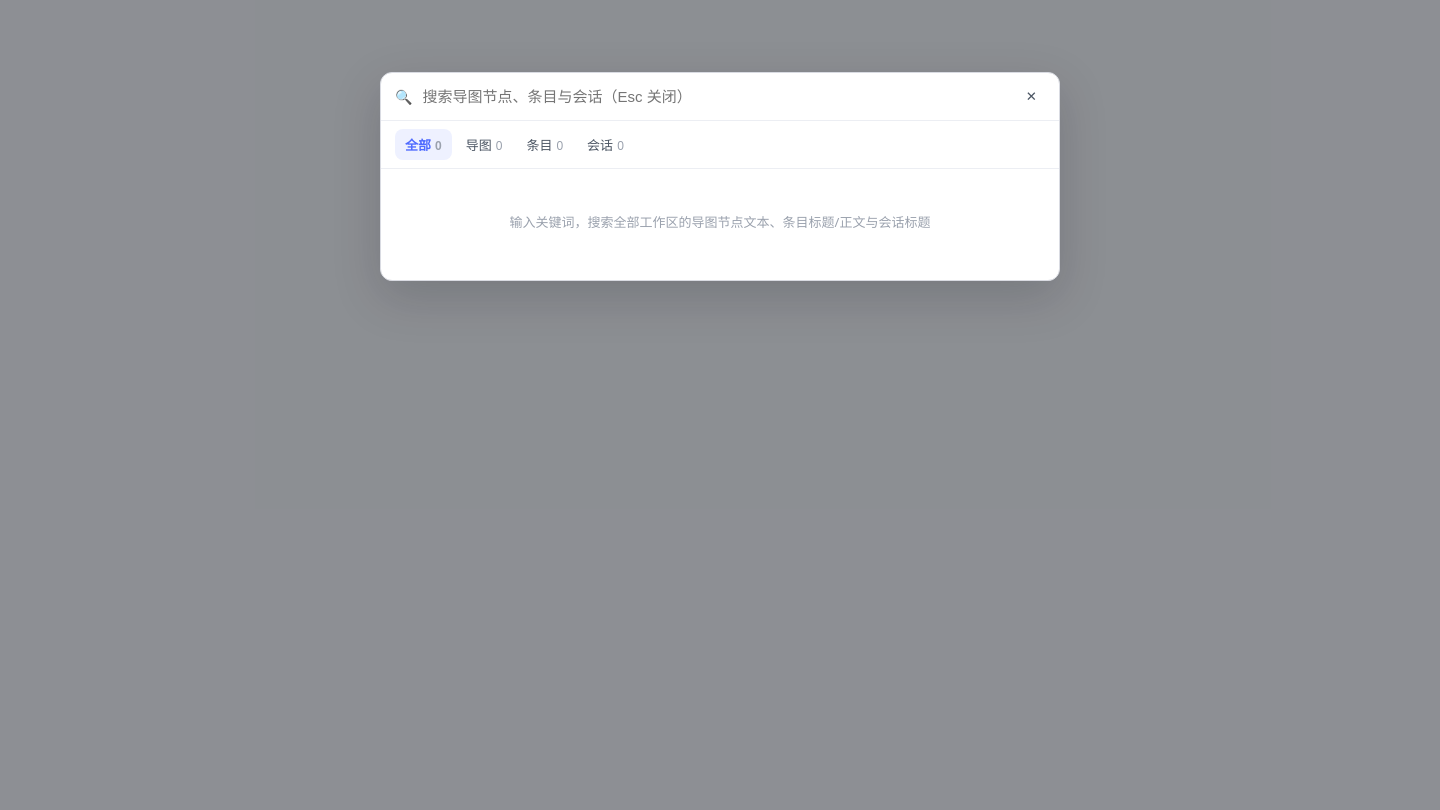
Test: SearchOverlay 全局搜索浮层 › 按类型分组展示结果并对关键词加 mark 高亮
The width and height of the screenshot is (1440, 810).
Type "布局" into the field named "搜索关键词" at [715, 96], box [420,87,1010,106]
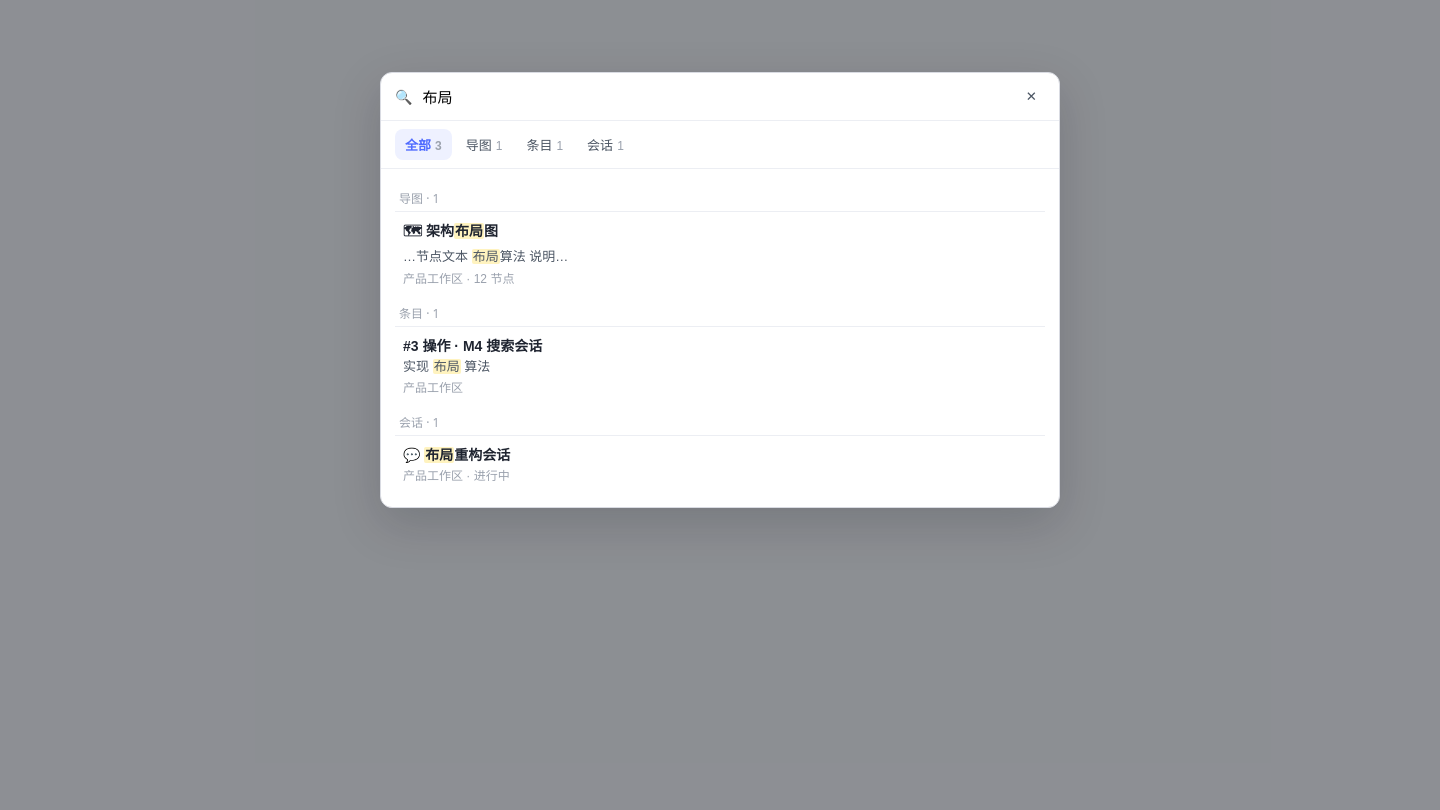
expect the button "🗺 架构布局图 …节点文本 布局算法 说明… 产品工作区 · 12 节点" is shown: met, box [395,212,1045,294]
expect the button "#3 操作 · M4 搜索会话 实现 布局 算法 产品工作区" is shown: met, box [395,326,1045,403]
expect the button "💬 布局重构会话 产品工作区 · 进行中" is shown: met, box [395,436,1045,491]
